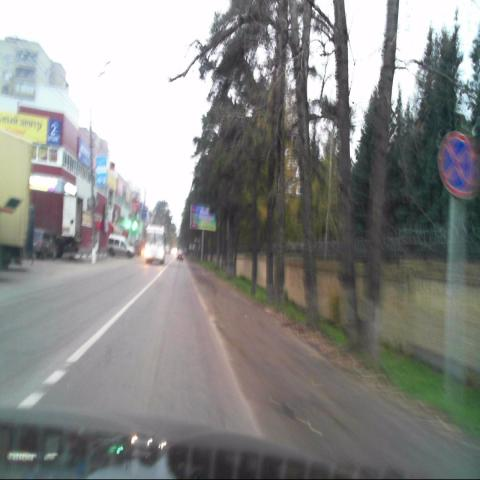3_27: (439, 132, 474, 199)
